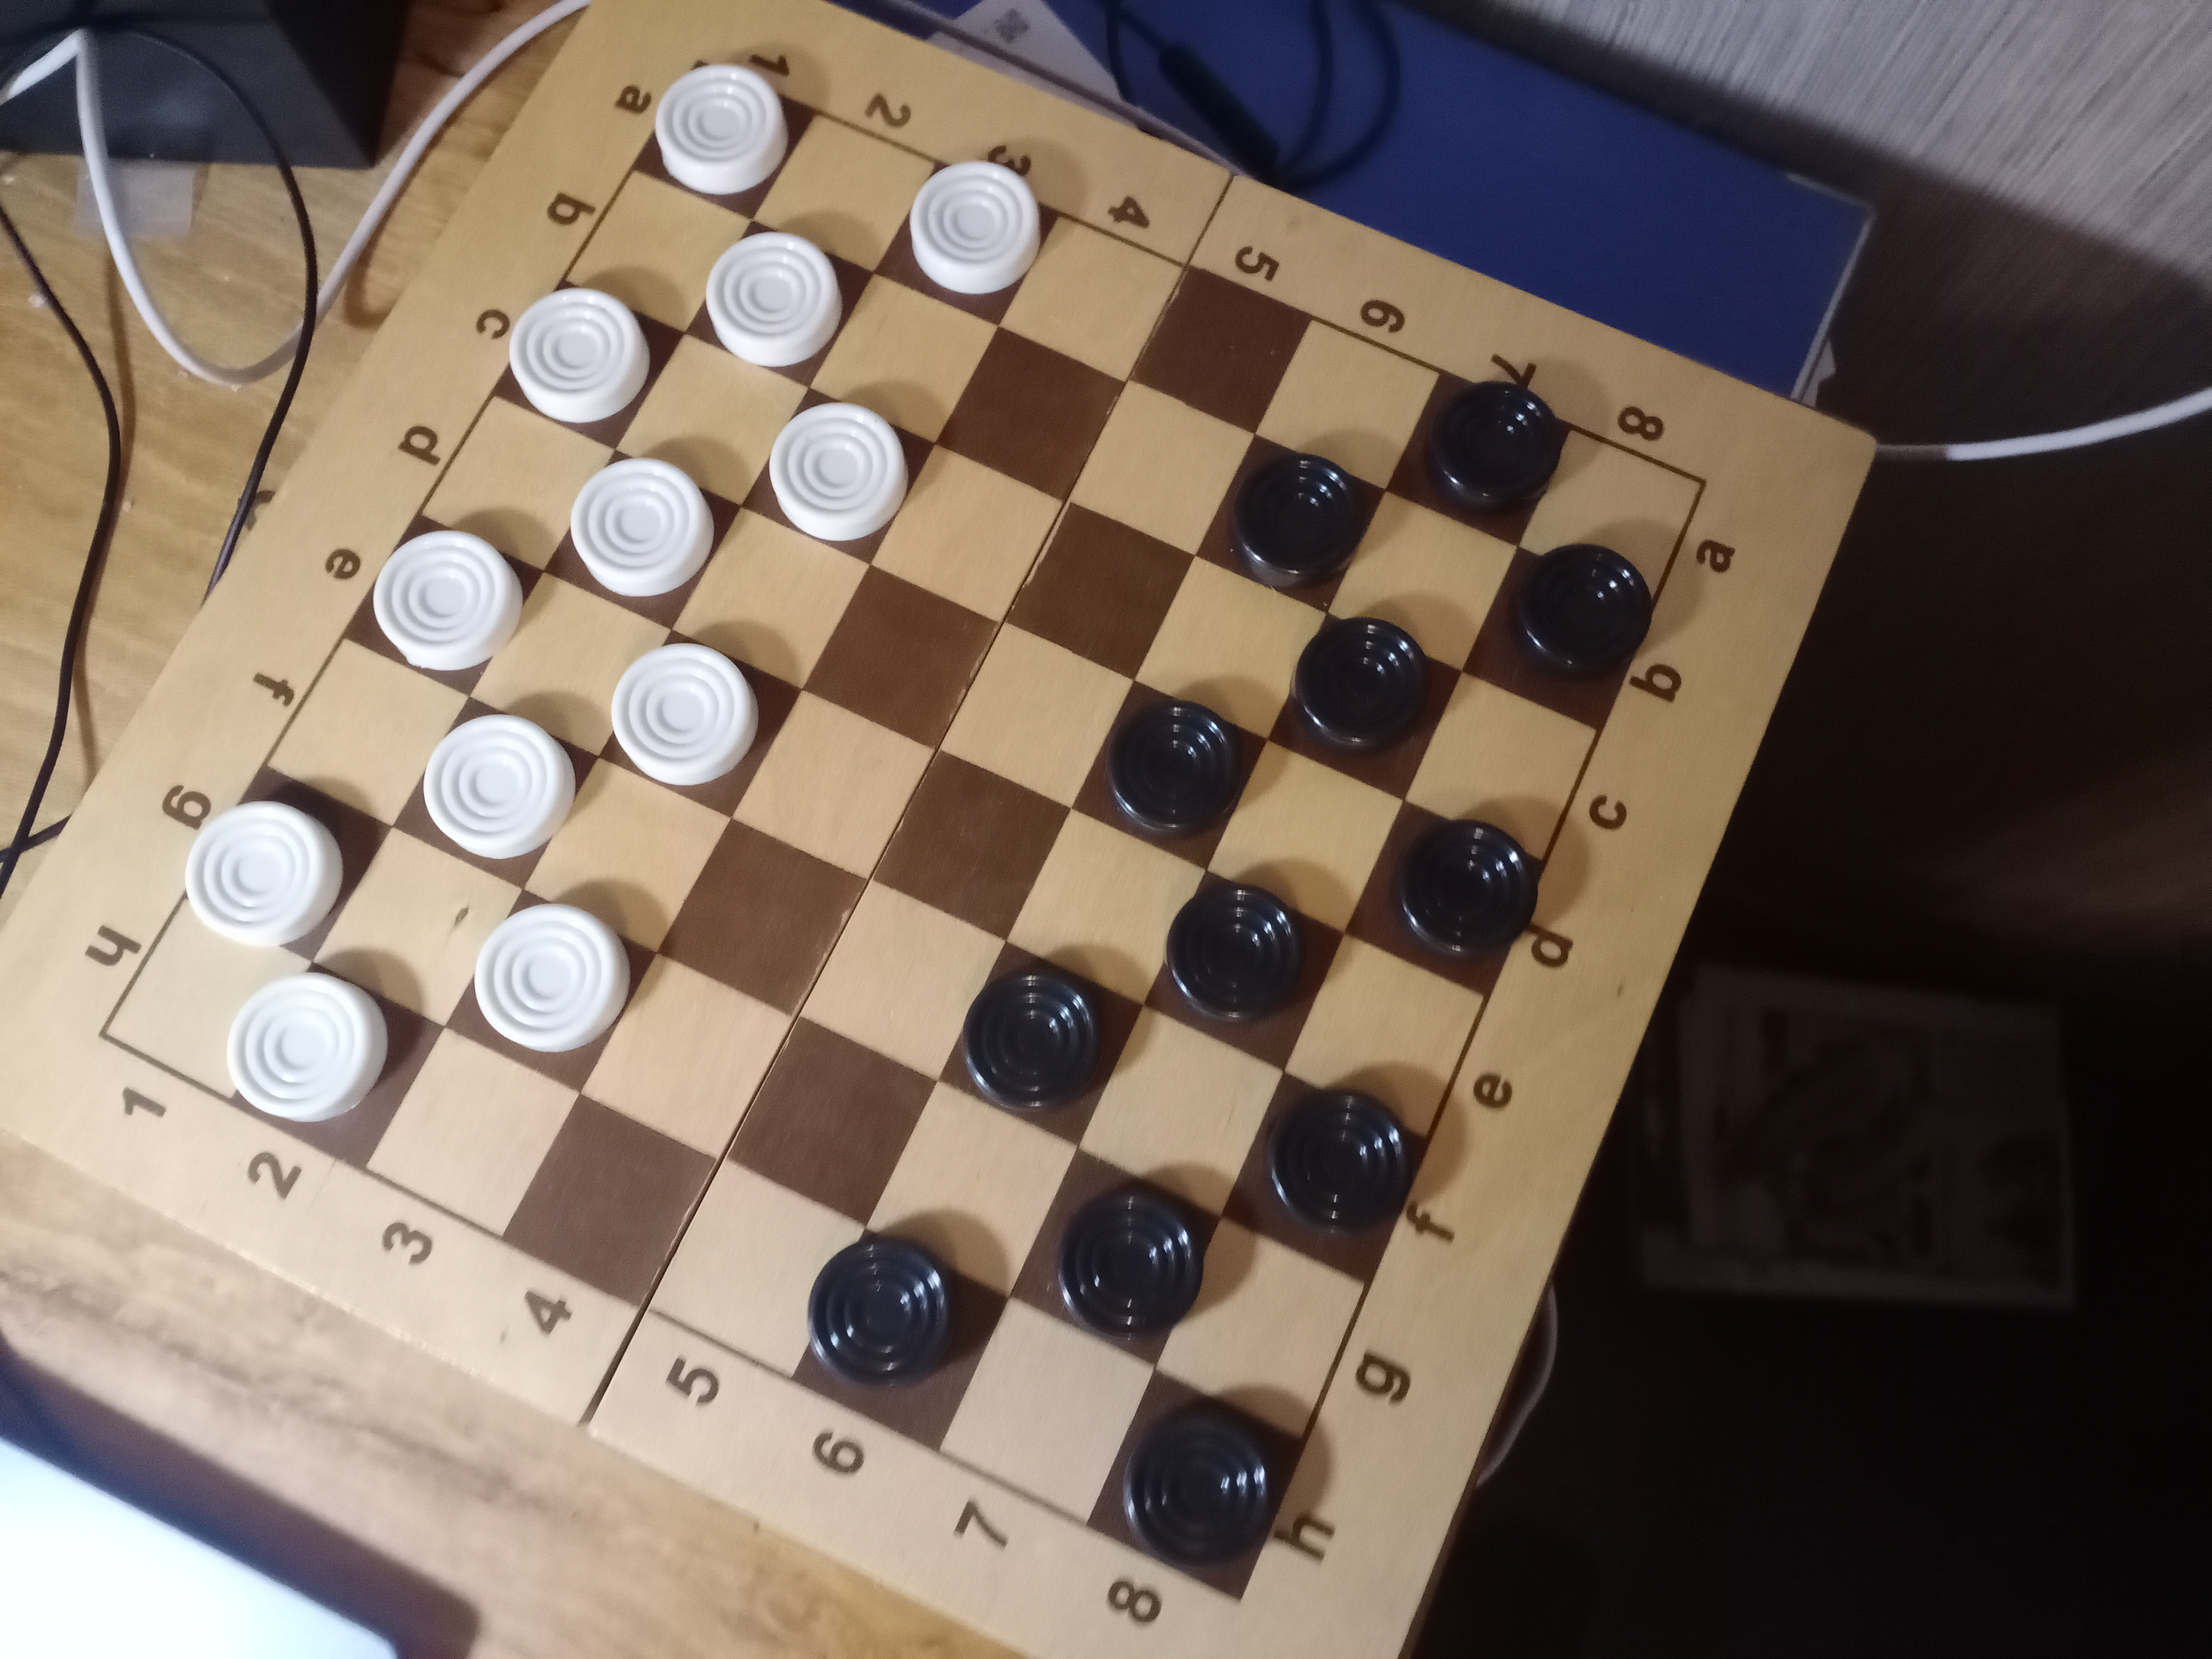Black_Draught: (1085, 1366, 1305, 1600), (787, 1227, 1008, 1450), (1008, 1148, 1221, 1366), (937, 941, 1144, 1148), (1223, 1073, 1428, 1281), (1144, 873, 1343, 1072), (1345, 803, 1547, 997), (1071, 681, 1266, 873), (1266, 613, 1461, 802), (1461, 544, 1653, 728), (1197, 436, 1386, 615), (1388, 371, 1569, 545)
